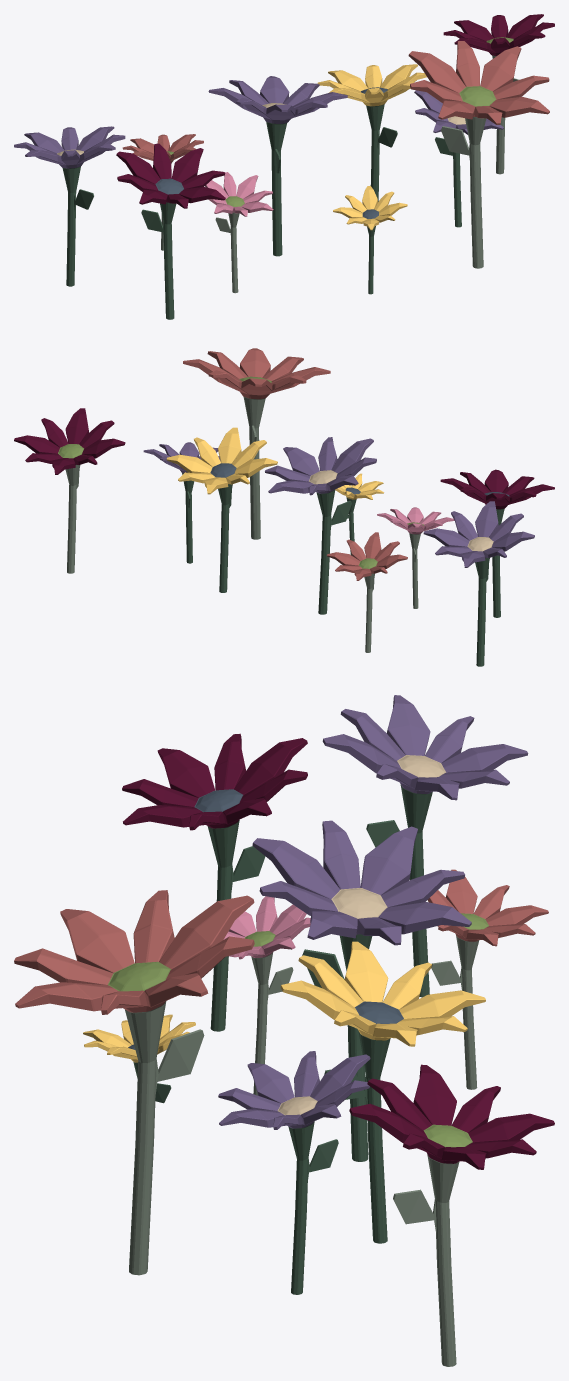
The model's file is flower_3_garden.fbx.
3 renders of one model, top to bottom at view 1: azimuth 30°, elevation 25°; view 2: azimuth 150°, elevation 25°; view 3: azimuth 270°, elevation 25°, orthographic. The views are drawn at different scales.
Parts seen in each view (by area): view 1: flower_3_garden, Cylinder.027, Cylinder.029, Cylinder.023, Cylinder.028, Cylinder.022, Cylinder.025, Cylinder.020, Cylinder.026; view 2: Cylinder.029, Cylinder.023, flower_3_garden, Cylinder.027, Cylinder.028, Cylinder.022, Cylinder.025, Cylinder.030, Cylinder.020, Cylinder.026; view 3: Cylinder.029, flower_3_garden, Cylinder.023, Cylinder.022, Cylinder.027, Cylinder.028, Cylinder.020, Cylinder.030, Cylinder.025, Cylinder.026.
Boxes of the visible parts, box(x1,y1,x2,y2) form: flower_3_garden: box(122, 41, 549, 162); Cylinder.027: box(62, 104, 461, 319); Cylinder.029: box(14, 76, 503, 168); Cylinder.023: box(116, 14, 554, 208); Cylinder.028: box(317, 64, 426, 230); Cylinder.022: box(161, 55, 519, 293); Cylinder.025: box(205, 172, 273, 216); Cylinder.020: box(166, 37, 513, 206); Cylinder.026: box(155, 87, 387, 218); Cylinder.029: box(143, 437, 534, 567); Cylinder.023: box(14, 408, 554, 509); flower_3_garden: box(183, 348, 407, 580); Cylinder.027: box(182, 473, 504, 666); Cylinder.028: box(166, 427, 383, 499); Cylinder.022: box(65, 396, 420, 652); Cylinder.025: box(377, 507, 454, 534); Cylinder.030: box(309, 470, 493, 551); Cylinder.020: box(58, 376, 423, 568); Cylinder.026: box(210, 463, 509, 496); Cylinder.029: box(218, 695, 528, 1129); flower_3_garden: box(14, 869, 548, 1014); Cylinder.023: box(122, 733, 554, 1169); Cylinder.022: box(125, 935, 479, 1366); Cylinder.027: box(133, 785, 432, 1294); Cylinder.028: box(83, 941, 485, 1062); Cylinder.020: box(108, 913, 488, 1147); Cylinder.030: box(277, 755, 446, 1115); Cylinder.025: box(223, 896, 310, 959); Cylinder.026: box(128, 789, 403, 1049).
Bounding box in the file's own units: 122 × 43.06 × 60.72.
